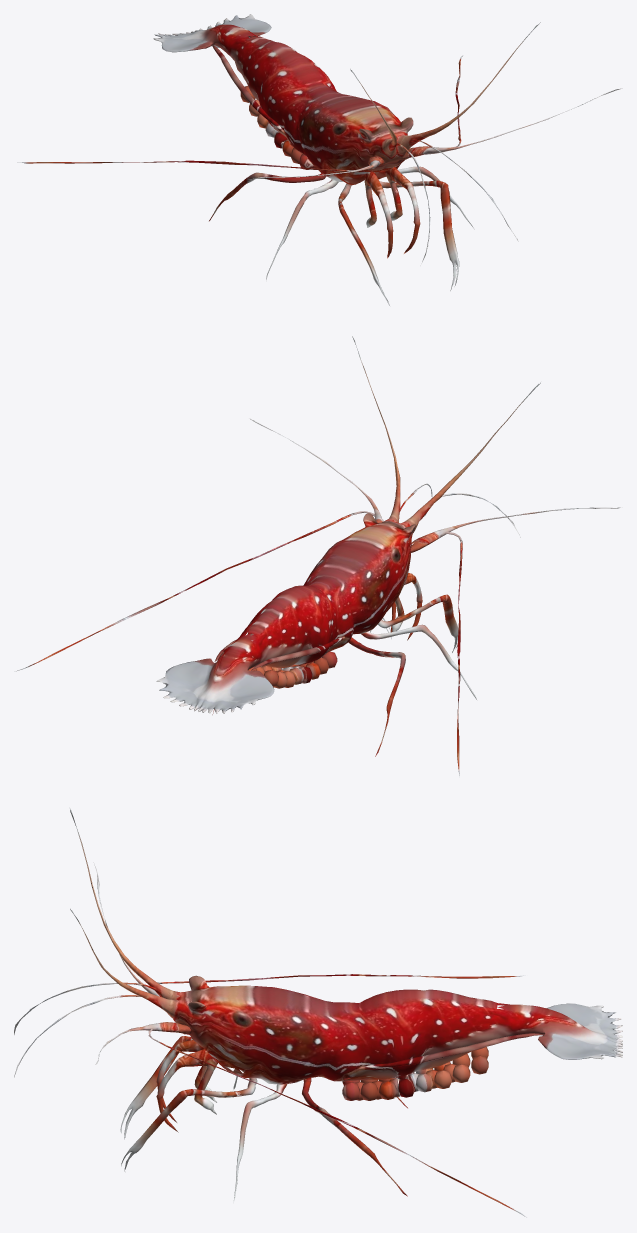
The model's file is matanoshrimp.glb.
3 renders of one model, top to bottom at view 1: azimuth 30°, elevation 25°; view 2: azimuth 150°, elevation 25°; view 3: azimuth 270°, elevation 25°, orthographic. The views are drawn at different scales.
Visible parts, largest first — view 1: matanoshrimp; view 2: matanoshrimp; view 3: matanoshrimp.
Part boxes in pixels (left/top/right/bottom): matanoshrimp: left=17, top=14, right=622, bottom=305; matanoshrimp: left=16, top=336, right=622, bottom=776; matanoshrimp: left=14, top=807, right=622, bottom=1217.
Size of the model in its own units: 0.0297 by 0.0172 by 0.0318.
1 material, 1 textured.
